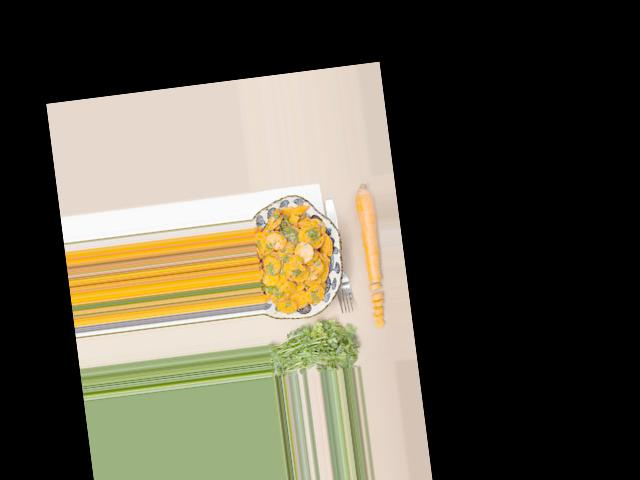carrot: (353, 182, 386, 292)
